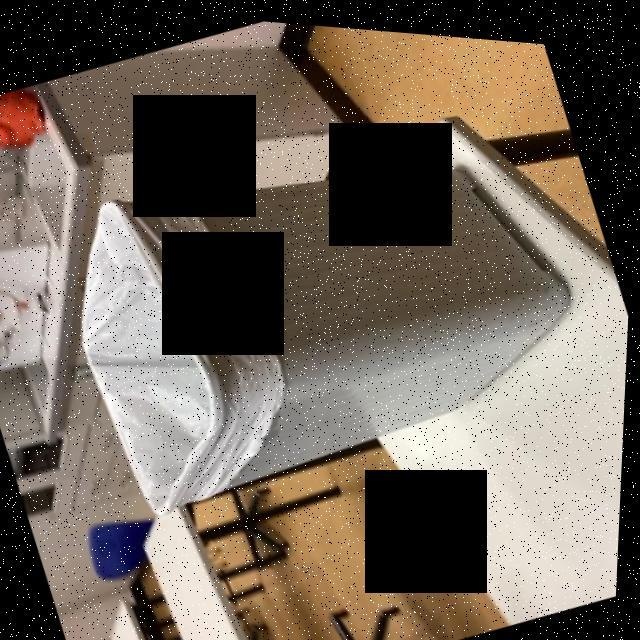bin: (0, 27, 639, 601)
